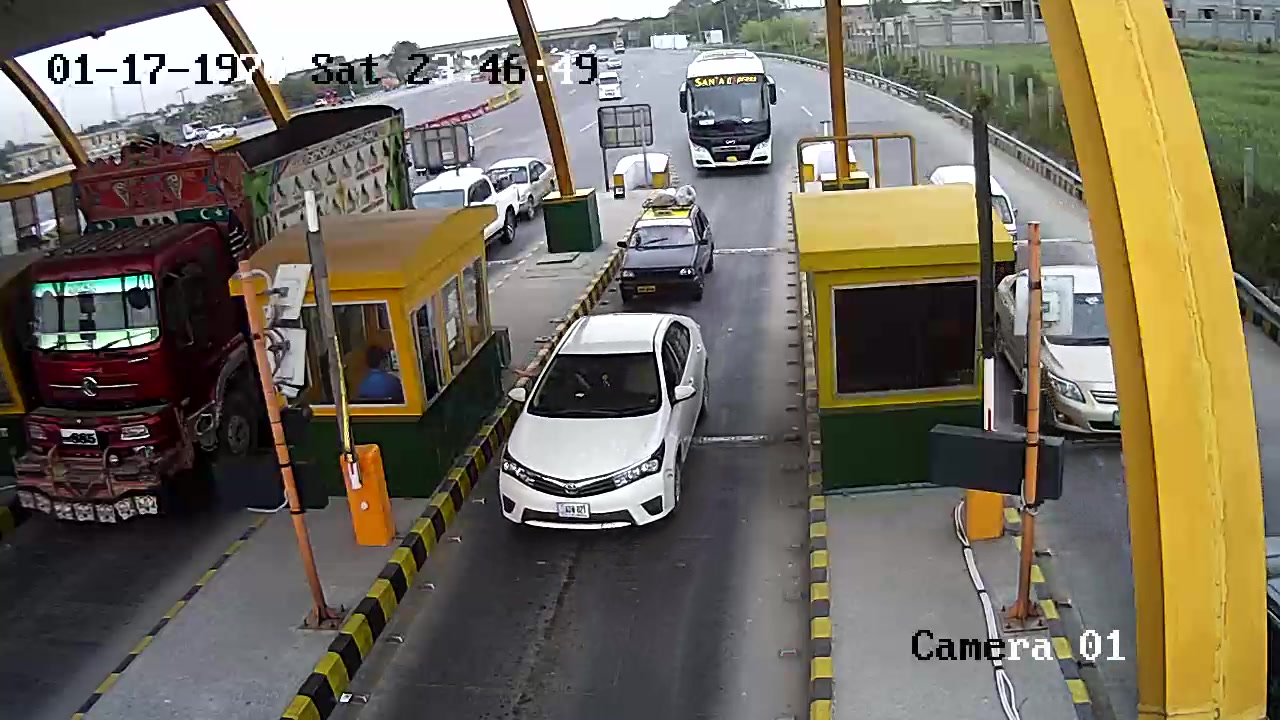F1: (496, 310, 720, 542)
